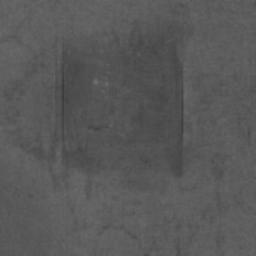Rolled pit: (54, 31, 184, 183)
